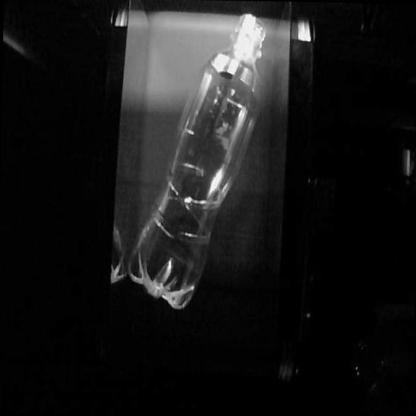Plastic Bottle: (122, 13, 266, 309)
